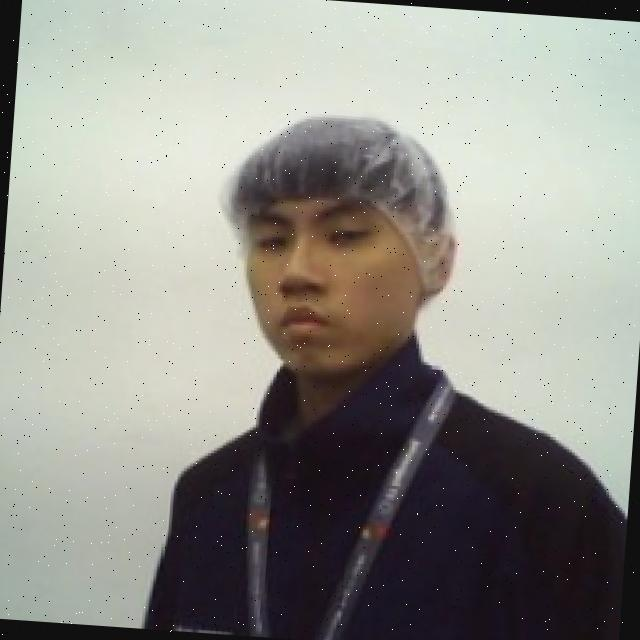gloves: (216, 100, 470, 306)
no_hairnet: (228, 228, 447, 388)
